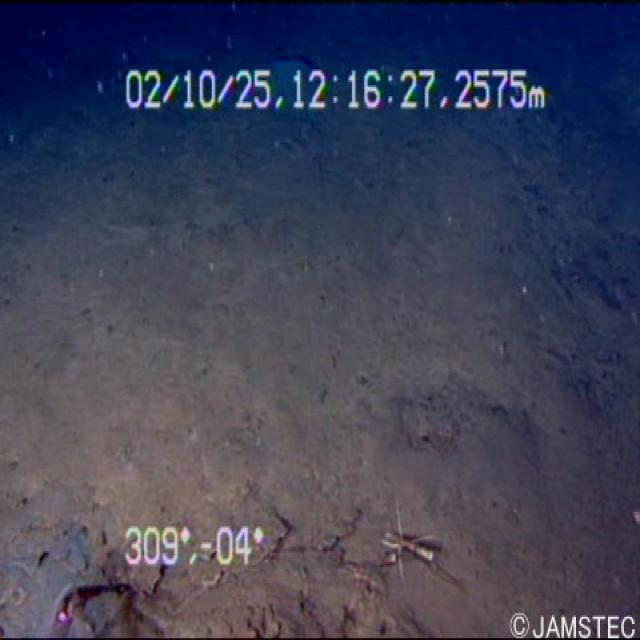plastic: (32, 574, 153, 638)
